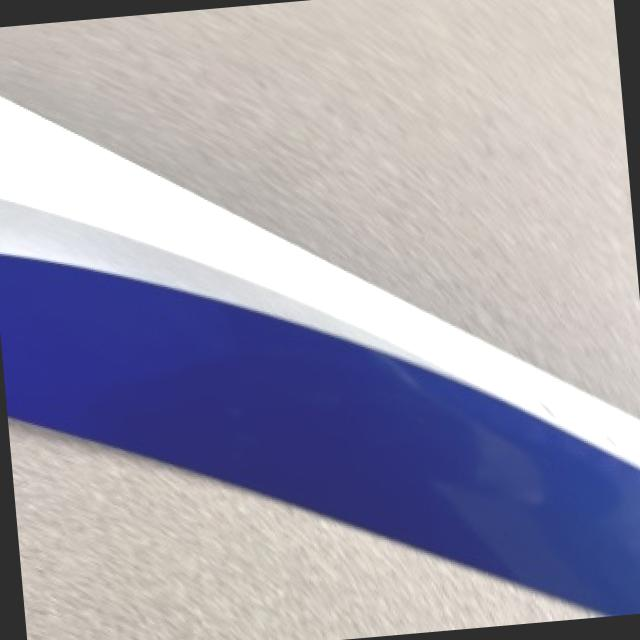healthy: (12, 418, 590, 640)
